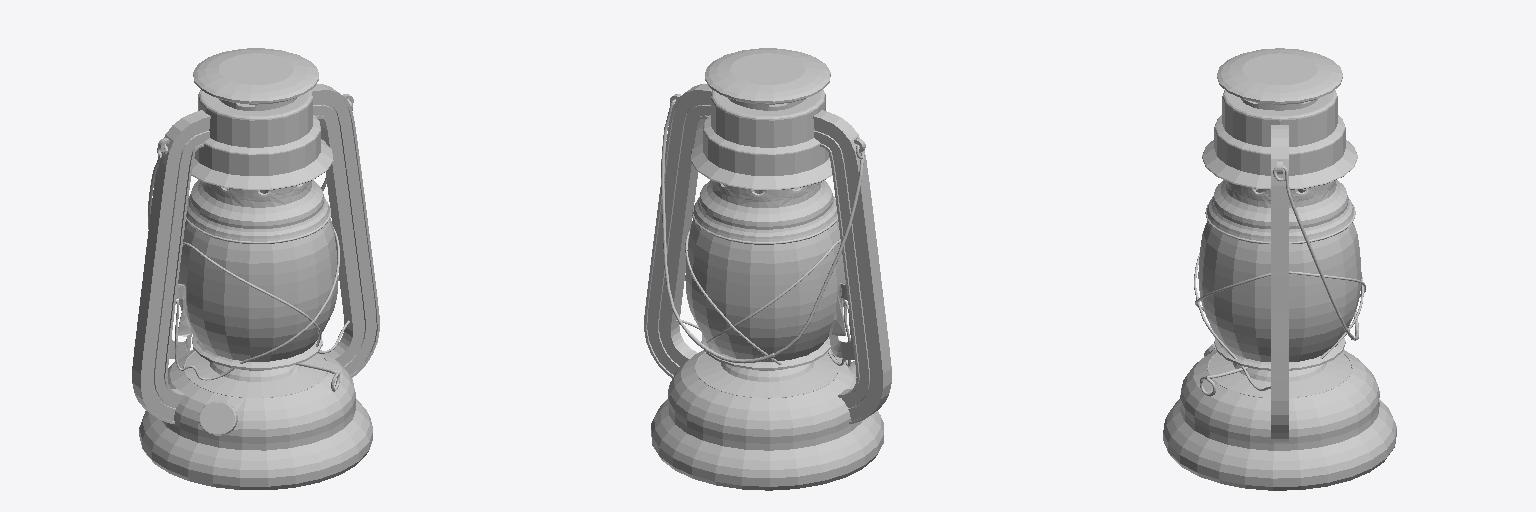
File: lantern.obj
3 views of the same model, side by side, from view 1: azimuth 30°, elevation 25°; view 2: azimuth 150°, elevation 25°; view 3: azimuth 270°, elevation 25° (orthographic).
Parts seen in each view (by area): view 1: lantern lantern_base, glass lantern, lantern supporting_cage, lantern lid; view 2: lantern lantern_base, glass lantern, lantern handle, lantern supporting_cage; view 3: lantern lantern_base, glass lantern, lantern supporting_cage, lantern handle.
Boxes of the visible parts, x1,y1,x2,y2 form: lantern lantern_base: [132, 48, 379, 489]; glass lantern: [178, 189, 338, 361]; lantern supporting_cage: [175, 227, 349, 380]; lantern lid: [199, 401, 237, 435]; lantern lantern_base: [644, 48, 891, 490]; glass lantern: [685, 190, 845, 361]; lantern handle: [661, 99, 864, 363]; lantern supporting_cage: [676, 229, 850, 366]; lantern lantern_base: [1163, 48, 1396, 490]; glass lantern: [1198, 189, 1361, 361]; lantern supporting_cage: [1194, 253, 1365, 390]; lantern handle: [1273, 166, 1358, 340].
Bounding box in the file's own units: 59.83 × 89.3 × 50.64.